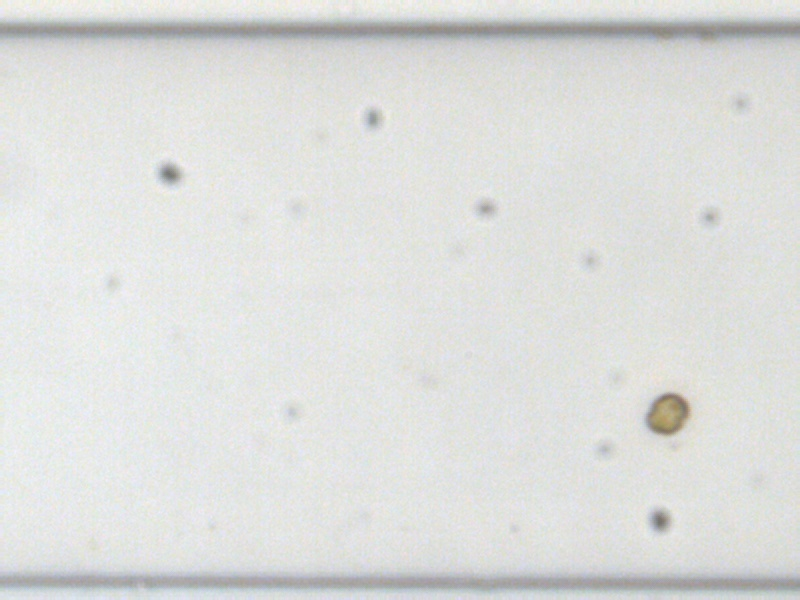Effrenium: (643, 390, 688, 438)
